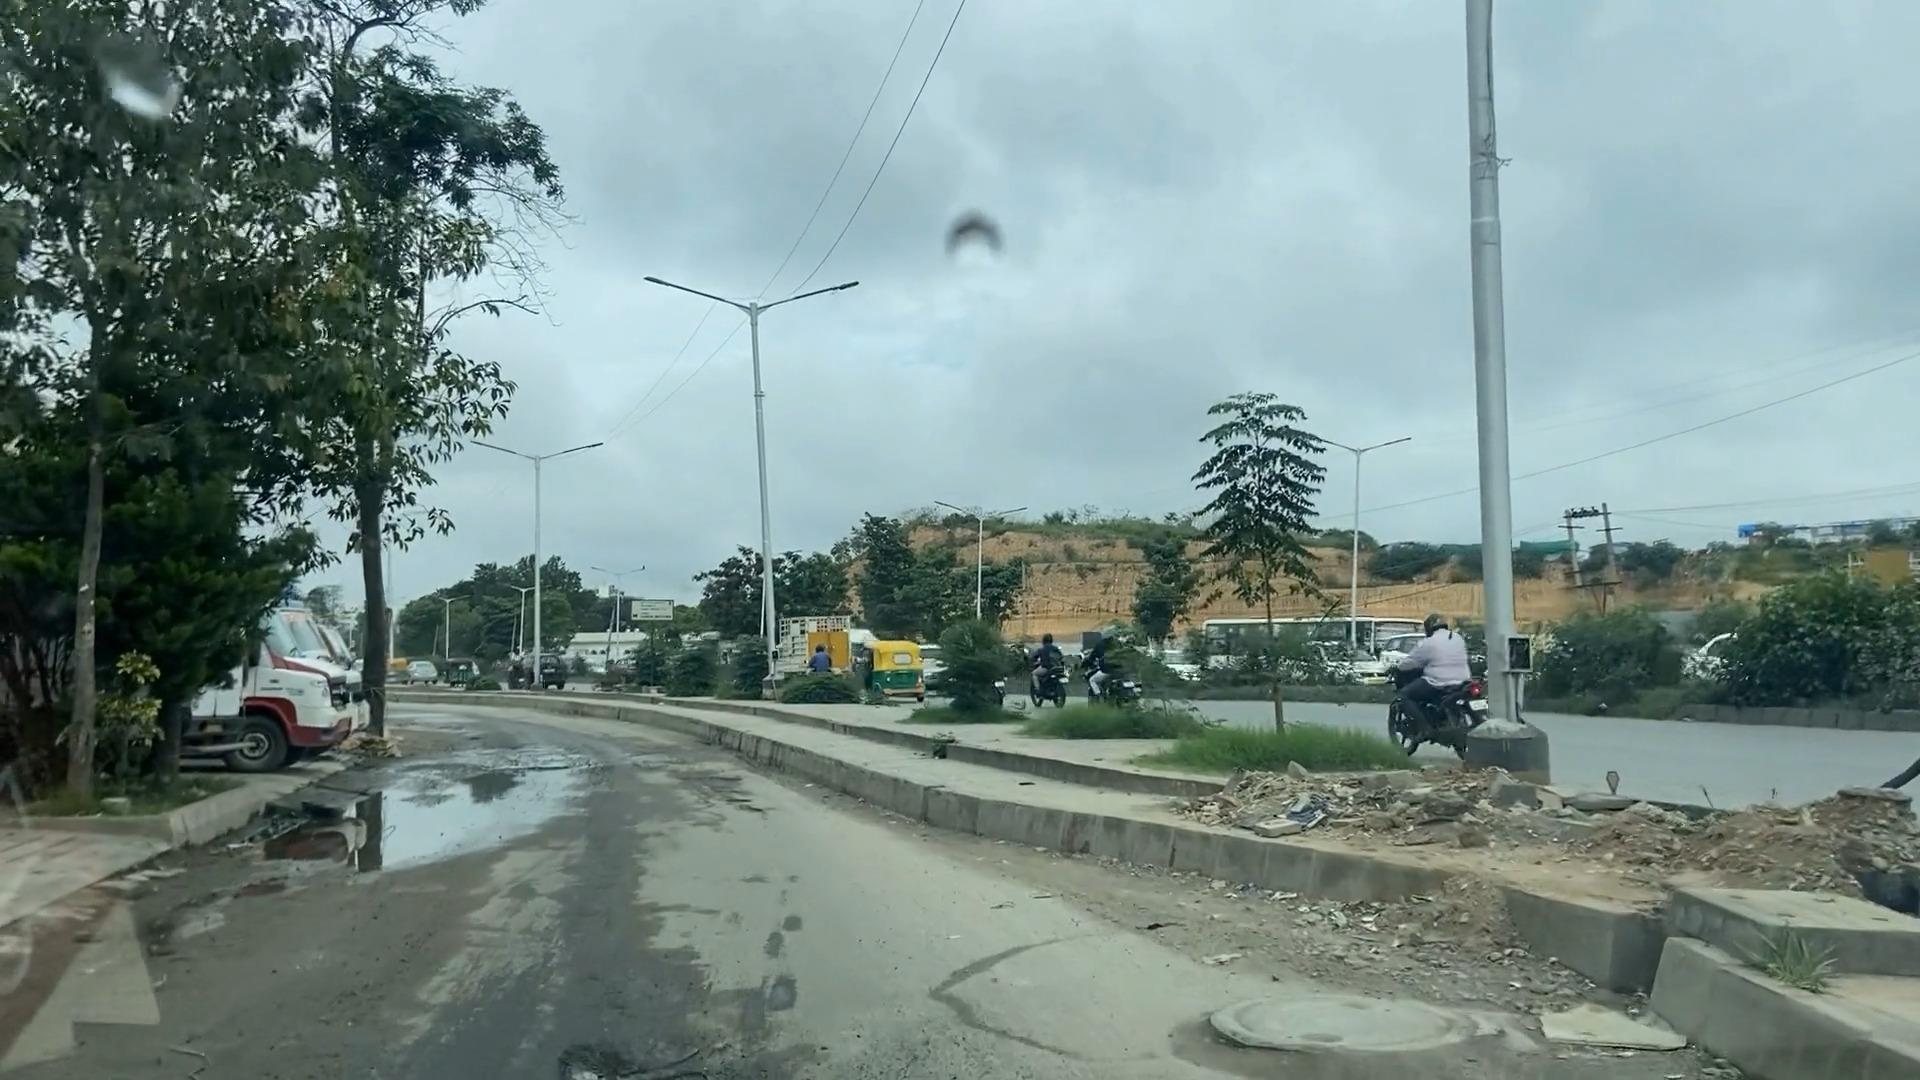RoadDamages: (1183, 980, 1531, 1073), (533, 1010, 798, 1080)
